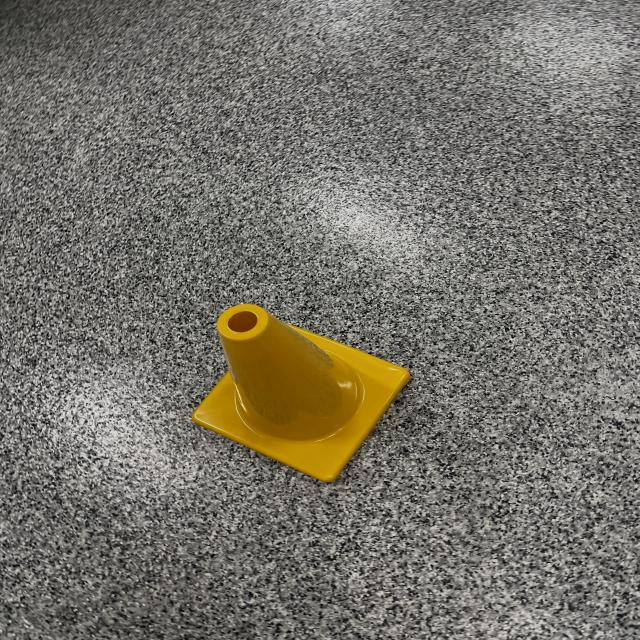frc_cone: (178, 298, 410, 489)
